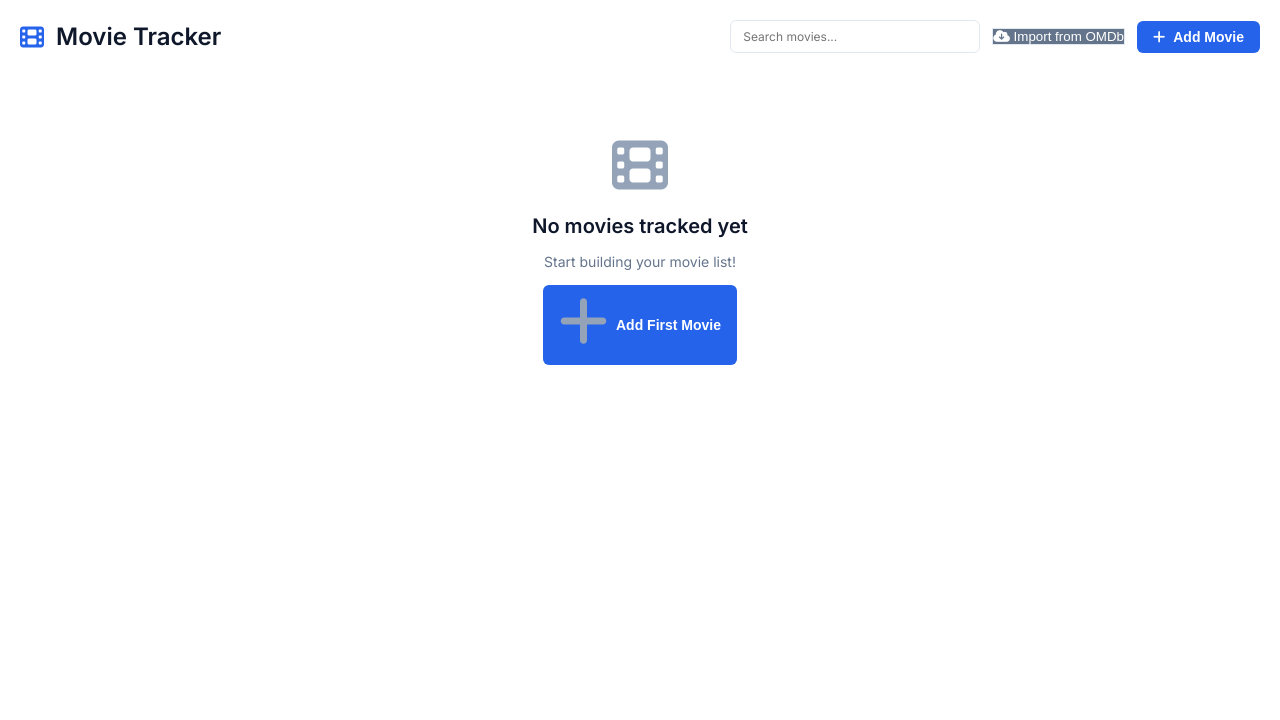
Test: MoviesSection Component › Add Movie › saves a new movie
Click Add Movie
Step 1. Click the button "Add Movie" → point(1198, 36), box [1137, 20, 1260, 52]
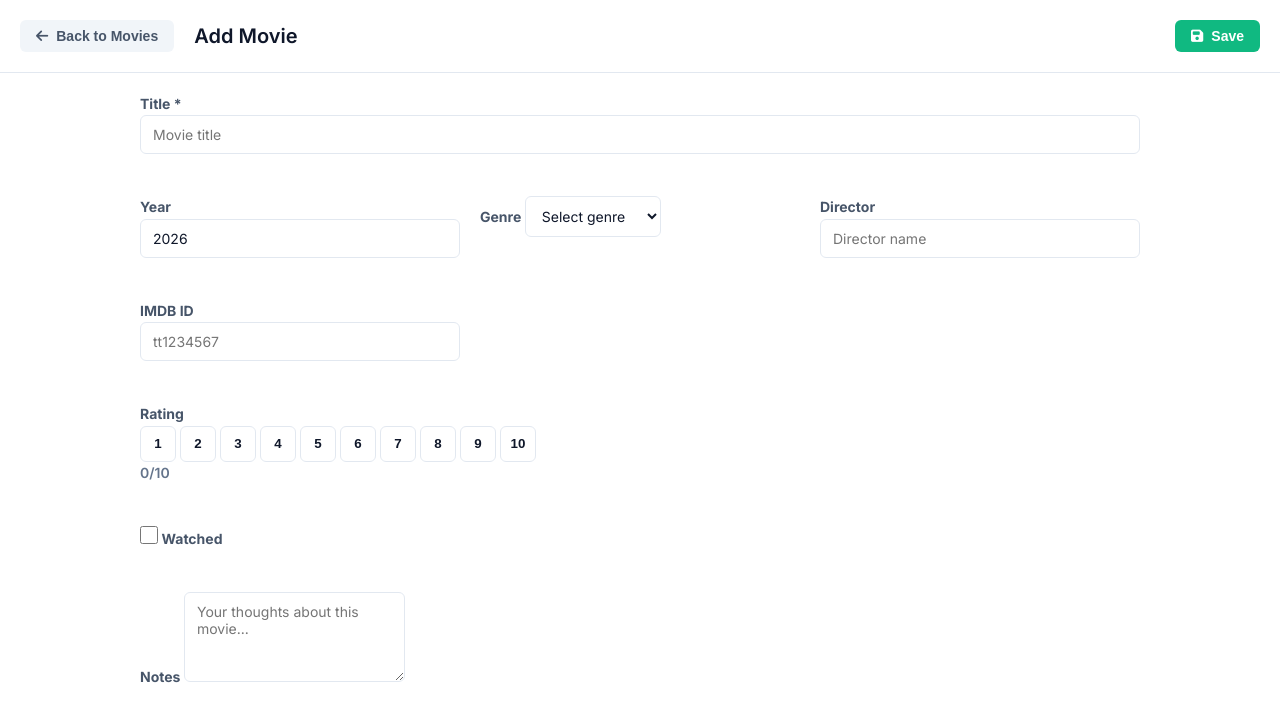
Check: the element with class "editor-fullscreen" is shown
Fill in form
Step 2. Type "New Movie" into the field with placeholder "Movie title" → point(640, 135), box [140, 115, 1140, 154]
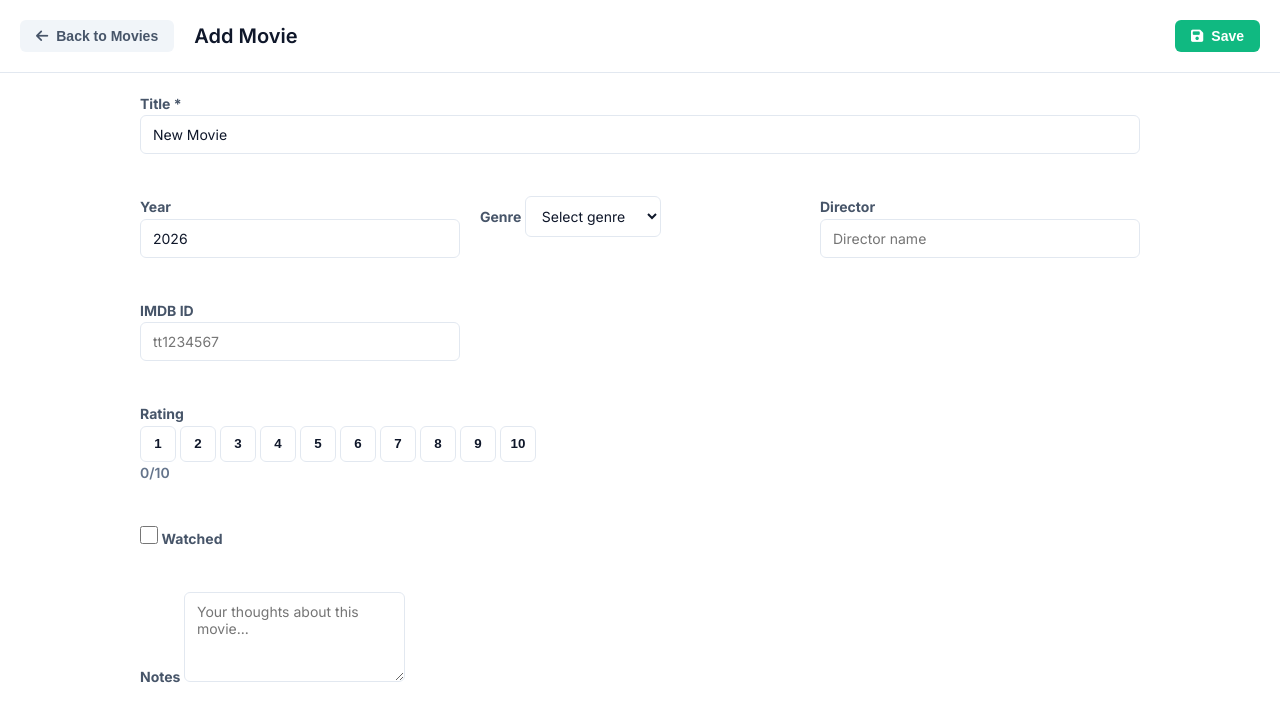
Step 3. Click the button "Save" → point(1218, 36), box [1175, 20, 1260, 52]
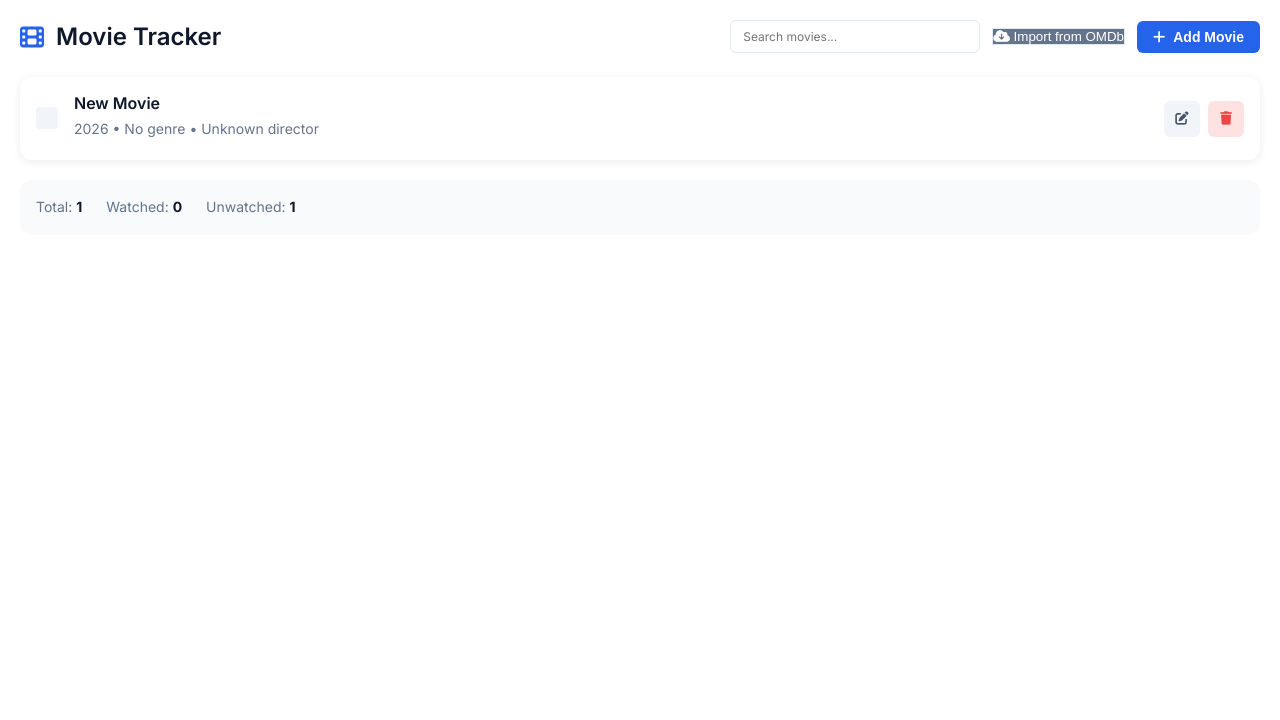
Check: the heading "New Movie" is shown, box [74, 93, 160, 113]
